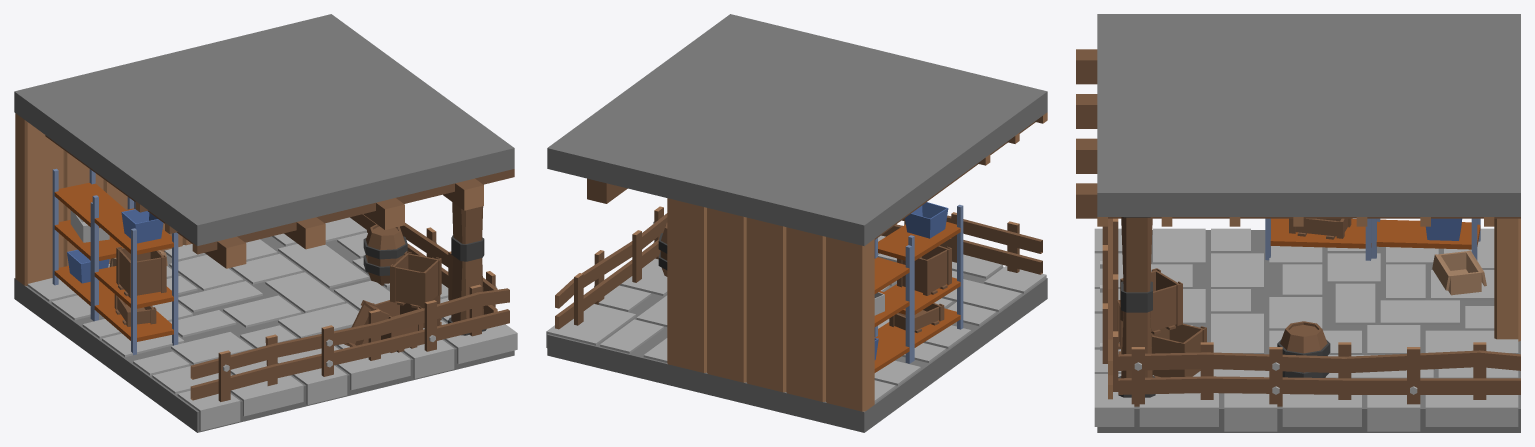
The model's file is ResourceStorage_Level_01_CornerRight.fbx.
3 renders of one model, left to right at view 1: azimuth 30°, elevation 25°; view 2: azimuth 150°, elevation 25°; view 3: azimuth 270°, elevation 25°, orthographic. The views are drawn at different scales.
Parts seen in each view (by area): view 1: ResourceStorage_Level_01_CornerRight; view 2: ResourceStorage_Level_01_CornerRight; view 3: ResourceStorage_Level_01_CornerRight.
Part boxes in pixels (left/top/right/bottom): ResourceStorage_Level_01_CornerRight: left=14, top=14, right=517, bottom=432; ResourceStorage_Level_01_CornerRight: left=546, top=14, right=1047, bottom=432; ResourceStorage_Level_01_CornerRight: left=1076, top=14, right=1520, bottom=432.
Size of the model in its own units: 8.05 by 5 by 8.4.
